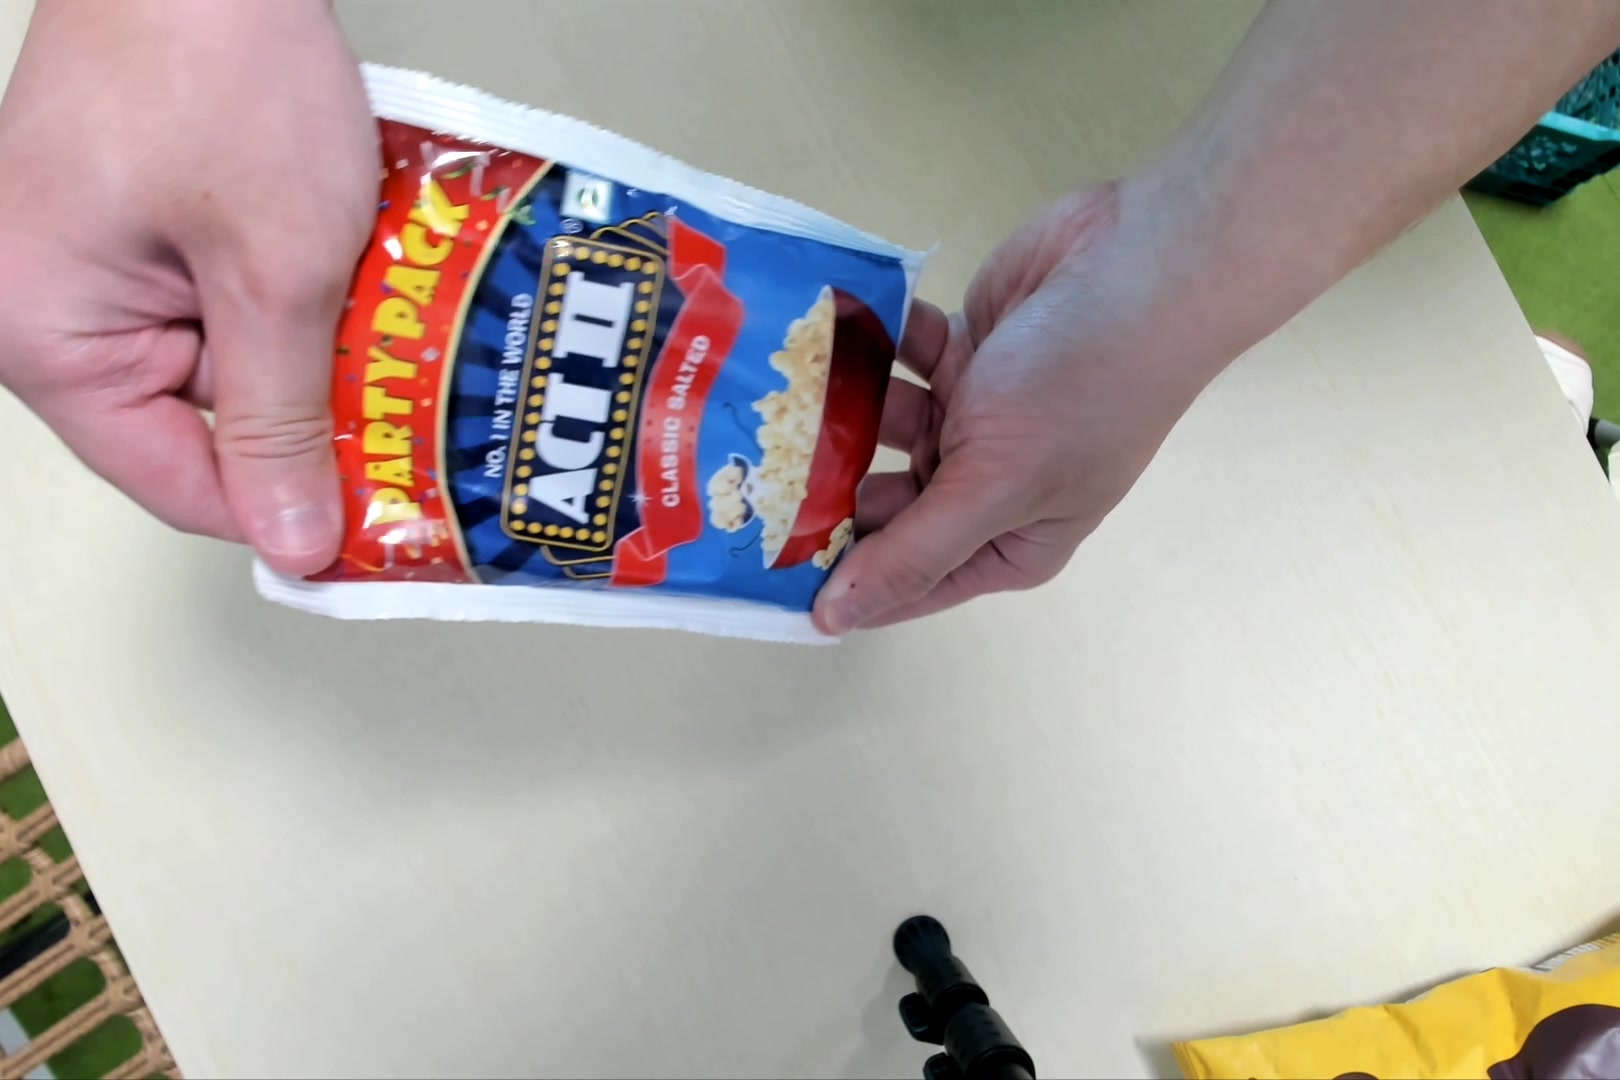PotatoChipsKeropok_100-199g_NonHalal_NonHealthy: (329, 61, 914, 661)
